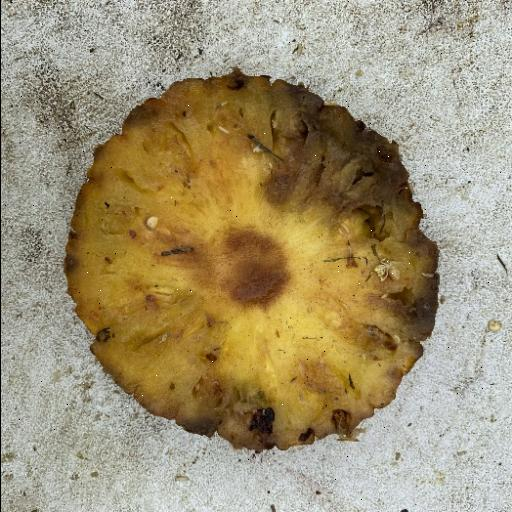Waste: (62, 68, 440, 452)
